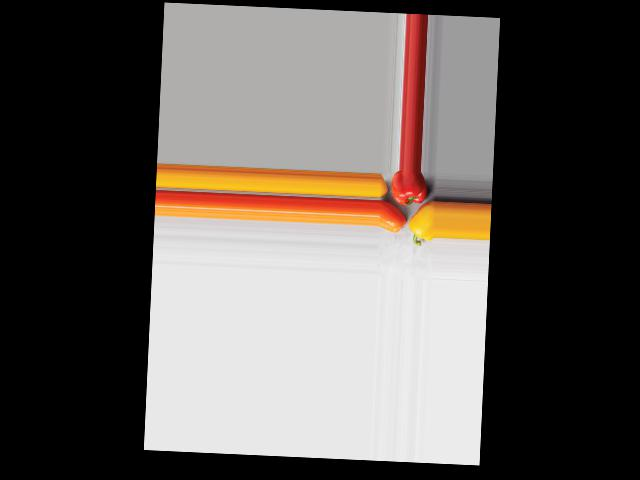bell_pepper: (390, 170, 429, 207)
